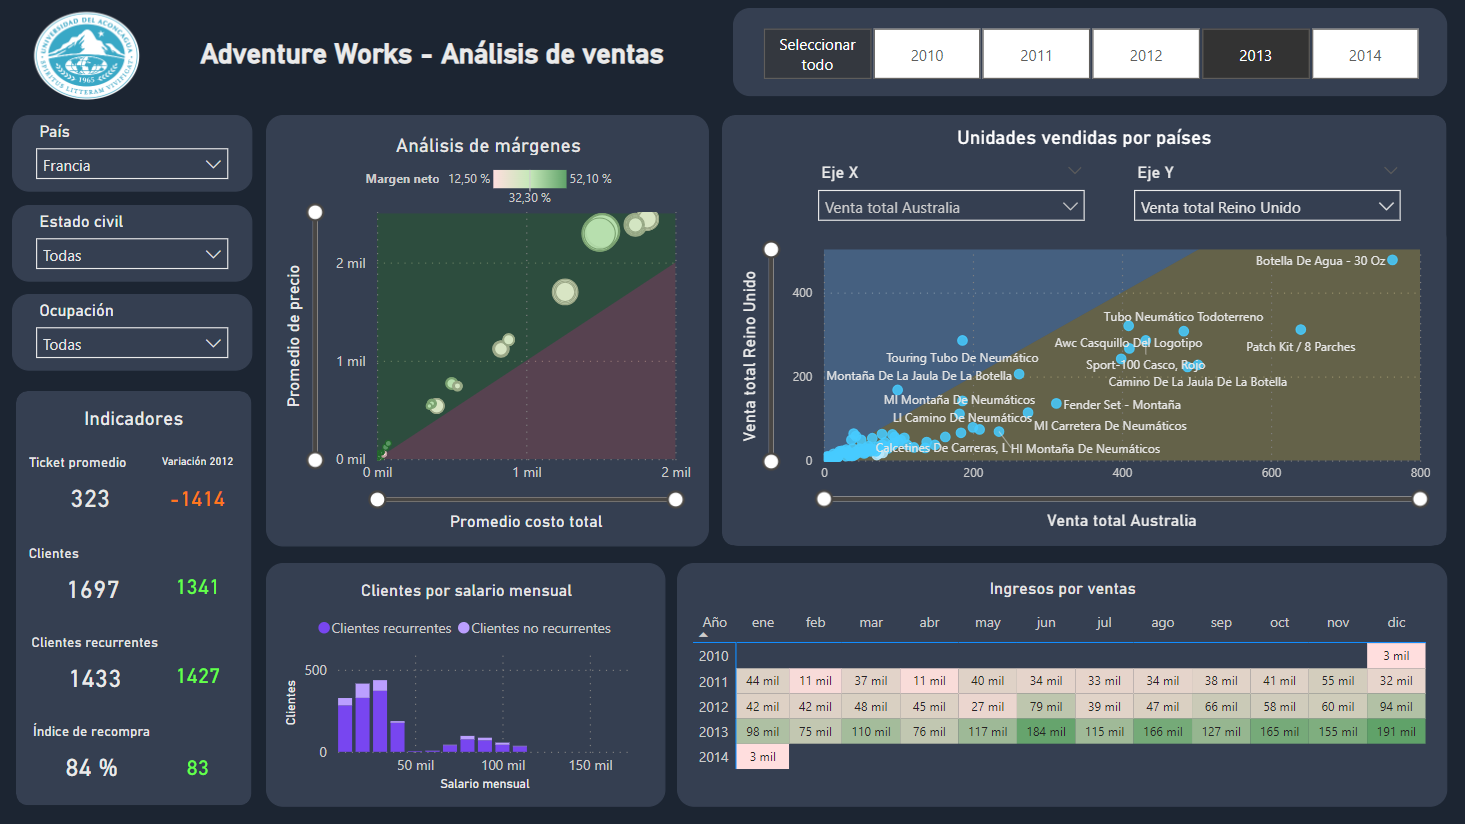

This screenshot's page, from the dashboard's own definition file:
{"tool":"powerbi","page":{"name":"Análisis de ventas 2","canvas":[1280,720],"ordinal":1},"visuals":[{"type":"shape","box":[13.9,341.9,205.7,362],"z":0,"group":"g2"},{"type":"pivotTable","title":"Ingresos por ventas","fields":{"Rows":["dim_fecha.Year"],"Columns":["dim_fecha.Mes"],"Values":["Medidas.01 $ venta total"]},"box":[591.8,492,672.5,213],"z":0},{"type":"scatterChart","title":"Análisis de márgenes","fields":{"Y":["Avg(fact_ventas.precio_unitario)"],"Category":["dim_producto.desc_producto"],"Size":["Medidas.01 $ Venta total"],"X":["Medidas.Promedio costo total PFI"]},"box":[232,100.9,386.7,376.6],"z":1000},{"type":"card","title":"Clientes","fields":{"Values":["Medidas.33 Q clientes únicos"]},"box":[20.1,476,122.2,62.8],"z":1000,"group":"g2"},{"type":"slicer","title":"Año","fields":{"Values":["dim_fecha.Year"]},"box":[640,7.1,624.3,77.1],"z":2000},{"type":"shape","box":[631,100.9,633.3,376.4],"z":2000,"group":"g3"},{"type":"card","title":"Ticket promedio","fields":{"Values":["Medidas.23 $ Ticket promedio"]},"box":[20.1,396.8,117.7,63.9],"z":2000,"group":"g2"},{"type":"group","id":"g1","title":"Grupo 1","box":[631,100.9,633.3,376.6],"z":3000},{"type":"slicer","fields":{"Values":["Parámetro Venta País.Parámetro Venta País"]},"box":[969.6,132.2,275.5,79.1],"z":3000,"group":"g3"},{"type":"card","title":"Clientes recurrentes","fields":{"Values":["Medidas.34 Q clientes mas de una compra"]},"box":[20.1,554.1,125.5,62.8],"z":3000,"group":"g2"},{"type":"slicer","title":"País","fields":{"Values":["dim_territorio.desc_pais"]},"box":[10.1,100.9,209.6,67.3],"z":4000},{"type":"slicer","fields":{"Values":["Eje X Venta País.Eje X Venta País"]},"box":[694.2,132.2,275.5,79.1],"z":4000,"group":"g3"},{"type":"card","title":"Índice de recompra","fields":{"Values":["Medidas.35 indice de recompra"]},"box":[20.1,632.2,119.9,63.9],"z":4000,"group":"g2"},{"type":"slicer","title":"País","fields":{"Values":["dim_cliente.estado_civil"]},"box":[10.1,179.3,209.6,67.3],"z":5000},{"type":"textbox","box":[39.1,350.5,155.3,37.1],"z":5000,"group":"g2"},{"type":"slicer","title":"País","fields":{"Values":["dim_cliente.ocupacion"]},"box":[10.1,256.7,209.6,67.3],"z":6000},{"type":"card","title":"Ventas [USD]","fields":{"Values":["Medidas.38 $ Delta ticket LY"]},"box":[133.9,418.5,76.2,35.9],"z":6000,"group":"g2"},{"type":"card","fields":{"Values":["Medidas.título delta indicadores"]},"box":[131.7,386.5,81.2,36.9],"z":7000,"group":"g2"},{"type":"columnChart","title":"Clientes por salario mensual","fields":{"Y":["Medidas.34 Q clientes recurrentes","Medidas.36 Q clientes no recurrentes"],"Category":["dim_cliente.salario_mensual"]},"box":[232,492,348.6,213],"z":7000},{"type":"scatterChart","title":"Venta total de producto por países","fields":{"Y":["Medidas.32 Q Venta total Reino Unido"],"X":["Medidas.29 Q Venta total Australia"],"Category":["dim_producto.desc_producto"]},"box":[631.2,194.1,632.9,283.4],"z":8000,"group":"g3"},{"type":"group","id":"g2","title":"Grupo 2","box":[13.9,341.9,205.7,362],"z":8000},{"type":"card","title":"Ventas [USD]","fields":{"Values":["Medidas.42 Q Delta clientes LY"]},"box":[134.1,496,76.3,35.7],"z":8000,"group":"g2"},{"type":"image","box":[0,0,151.2,97.7],"z":9000},{"type":"card","title":"Ventas [USD]","fields":{"Values":["Medidas.43 Q Delta clientes recurrentes LY"]},"box":[134.1,573.6,76.3,35.7],"z":9000,"group":"g2"},{"type":"textbox","box":[164.4,27.8,426.7,36.7],"z":10000},{"type":"card","title":"Ventas [USD]","fields":{"Values":["Medidas.44 Delta indice recompra LY"]},"box":[134.1,653.6,76.3,35.7],"z":10000,"group":"g2"},{"type":"group","id":"g3","title":"Grupo 3","box":[631,100.9,633.3,376.6],"z":11001,"group":"g1"}]}

Visuals, with their boxes in screenshot pixels (x1, y1, x2, y2), scaled from the page's 1280x720 canvas onto the 1465x824 screenshot:
shape: region(16, 391, 251, 806)
"Ingresos por ventas" pivotTable: region(677, 563, 1447, 807)
"Análisis de márgenes" scatterChart: region(266, 115, 708, 546)
"Clientes" card: region(23, 545, 163, 617)
"Año" slicer: region(732, 8, 1447, 96)
shape: region(722, 115, 1447, 546)
"Ticket promedio" card: region(23, 454, 158, 527)
"Grupo 1" group: region(722, 115, 1447, 546)
slicer - Parámetro Venta País.Parámetro Venta País: region(1110, 151, 1425, 242)
"Clientes recurrentes" card: region(23, 634, 167, 706)
"País" slicer: region(12, 115, 251, 192)
slicer - Eje X Venta País.Eje X Venta País: region(795, 151, 1110, 242)
"Índice de recompra" card: region(23, 724, 160, 797)
"País" slicer: region(12, 205, 251, 282)
textbox: region(45, 401, 222, 444)
"País" slicer: region(12, 294, 251, 371)
"Ventas [USD]" card: region(153, 479, 240, 520)
card - Medidas.título delta indicadores: region(151, 442, 244, 485)
"Clientes por salario mensual" columnChart: region(266, 563, 665, 807)
"Venta total de producto por países" scatterChart: region(722, 222, 1447, 546)
"Grupo 2" group: region(16, 391, 251, 806)
"Ventas [USD]" card: region(153, 568, 241, 609)
image: region(0, 0, 173, 112)
"Ventas [USD]" card: region(153, 656, 241, 697)
textbox: region(188, 32, 677, 74)
"Ventas [USD]" card: region(153, 748, 241, 789)
"Grupo 3" group: region(722, 115, 1447, 546)
